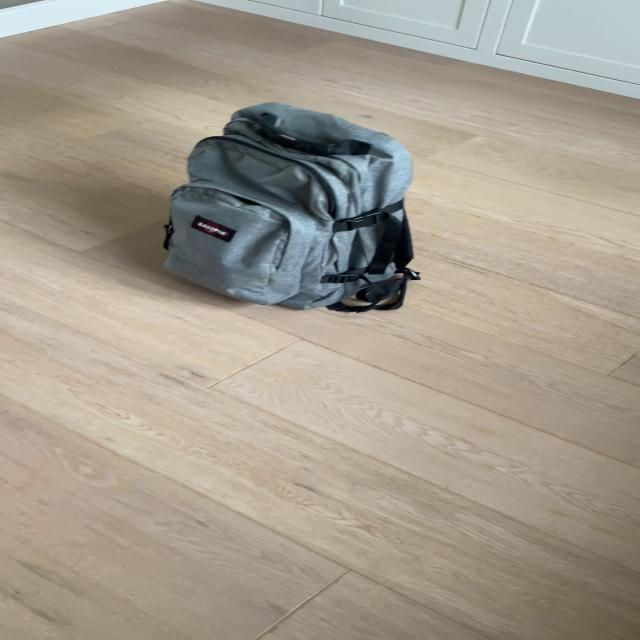backpack: (149, 90, 430, 318)
